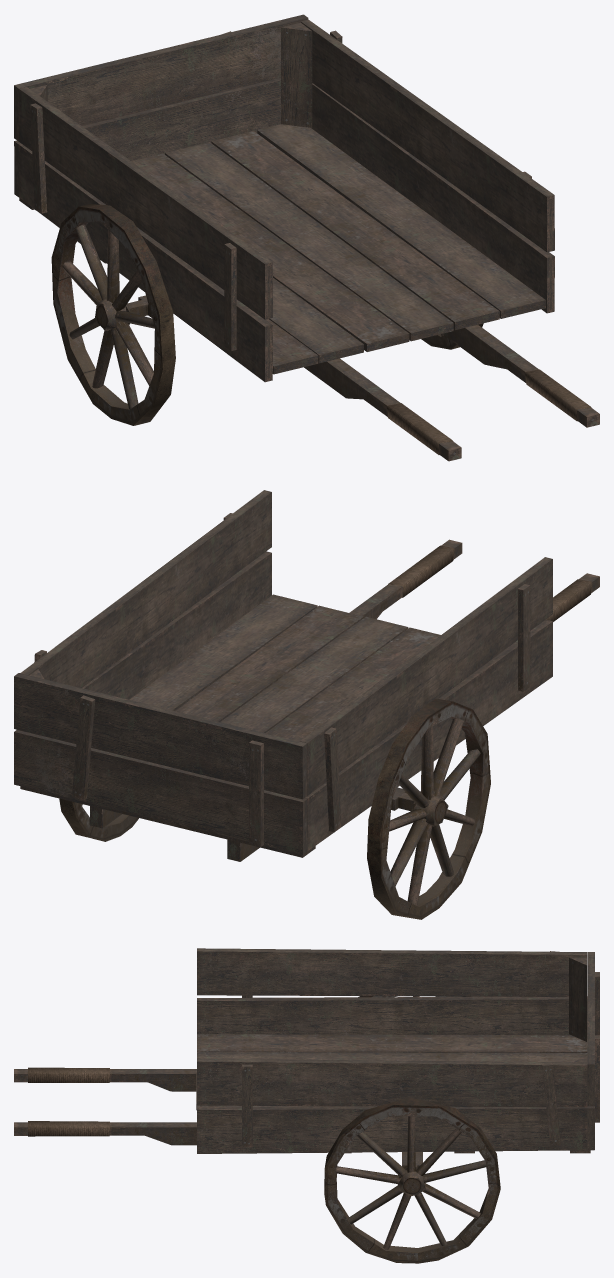
Rendered from SM_carriage.fbx.
3 renders of one model, top to bottom at view 1: azimuth 30°, elevation 25°; view 2: azimuth 150°, elevation 25°; view 3: azimuth 270°, elevation 25°, orthographic. The views are drawn at different scales.
Parts seen in each view (by area): view 1: SM_carriage_LOD0; view 2: SM_carriage_LOD0; view 3: SM_carriage_LOD0.
Part boxes in pixels (left/top/right/bottom): SM_carriage_LOD0: left=14, top=14, right=599, bottom=461; SM_carriage_LOD0: left=14, top=490, right=599, bottom=919; SM_carriage_LOD0: left=14, top=948, right=599, bottom=1263.
Bounding box in the file's own units: 175 × 331 × 122.
1 material, 1 textured.
